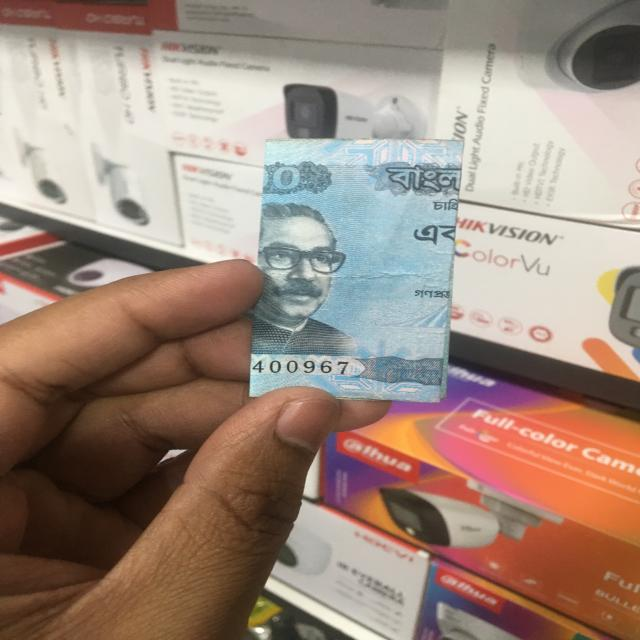Taka: (251, 134, 451, 402)
